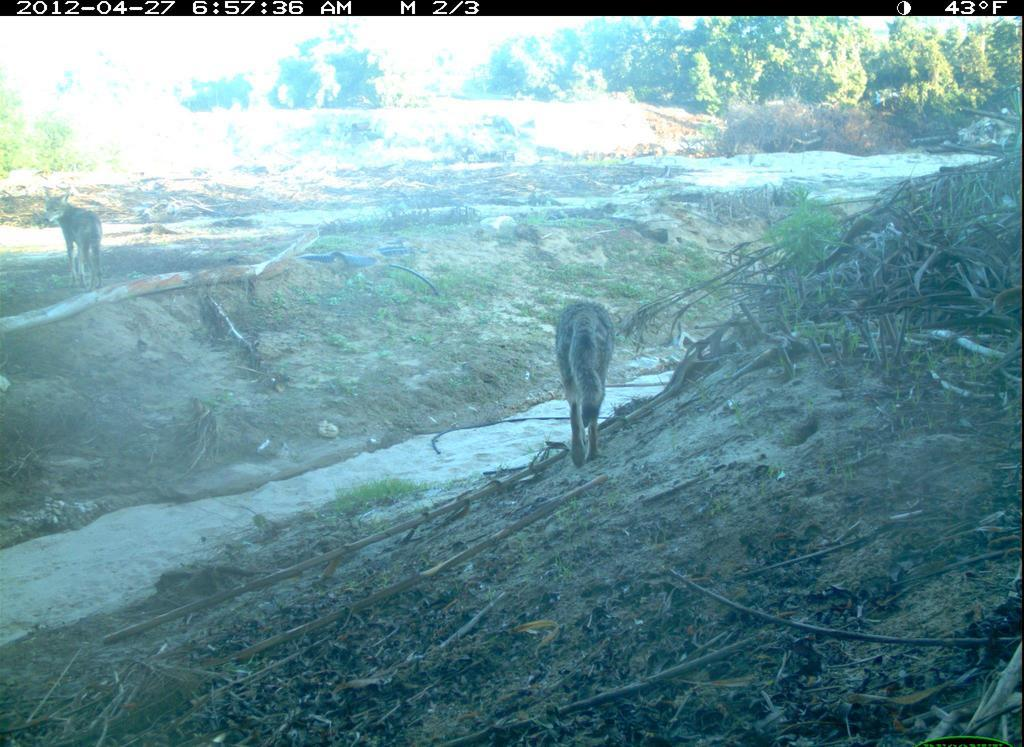coyote: (543, 299, 628, 478), (35, 184, 116, 296)
